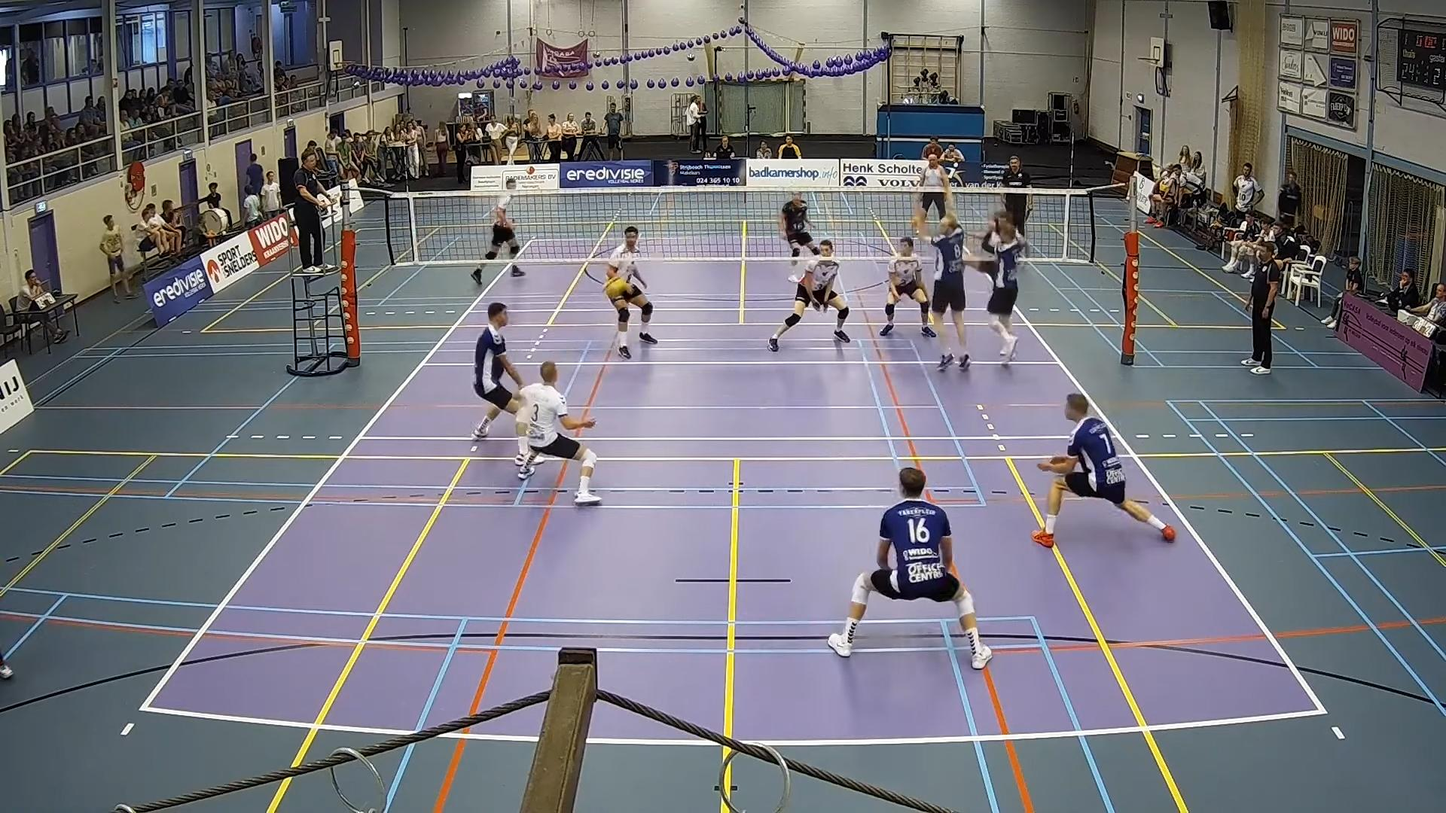difesa: (510, 360, 613, 507)
